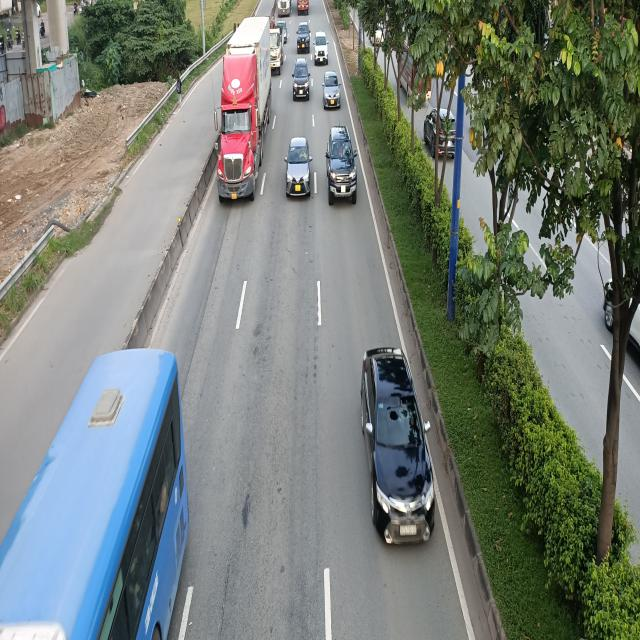car: (360, 347, 434, 544), (326, 126, 358, 202), (285, 135, 312, 201), (292, 58, 311, 101), (322, 70, 342, 107), (296, 22, 311, 52), (314, 31, 328, 62)
coach: (0, 349, 190, 640)
container: (214, 18, 272, 206), (277, 0, 291, 17)
truck: (264, 15, 284, 74)
